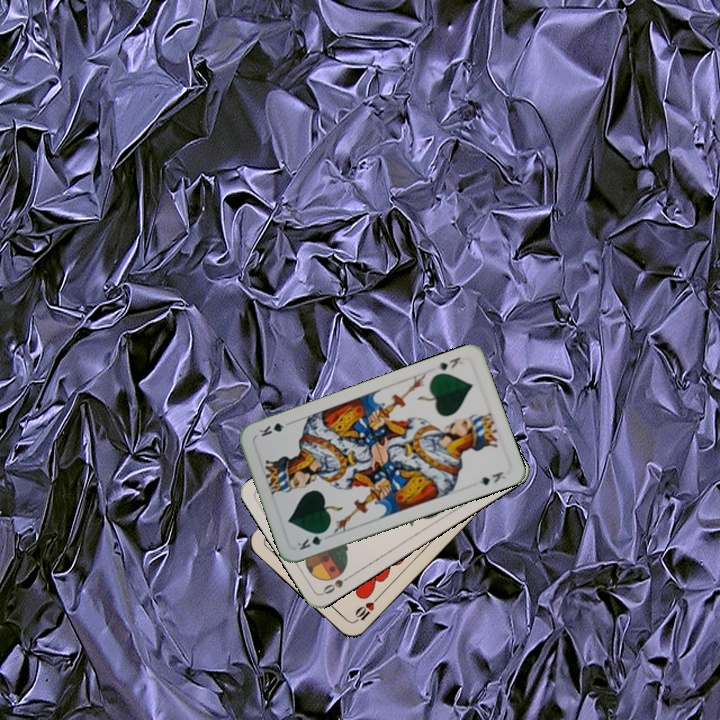GK: (293, 527, 330, 553), (432, 353, 463, 373)
H10: (349, 593, 382, 625)
SO: (319, 570, 355, 597)
